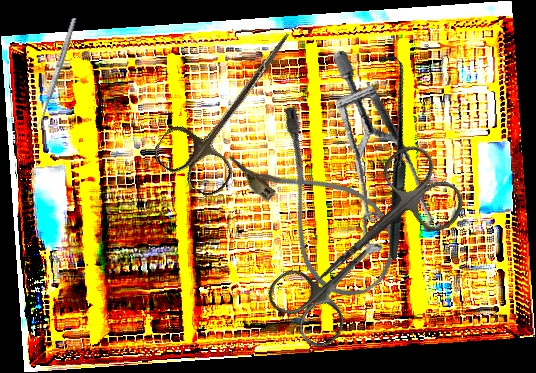Cannula: (222, 100, 416, 313)
Hook Surgical: (286, 50, 496, 261)
Iris Scissors: (284, 137, 473, 316), (149, 9, 317, 202), (261, 216, 401, 355)
Speculum: (289, 49, 476, 270)
Surgical Spoon: (35, 16, 78, 131)
